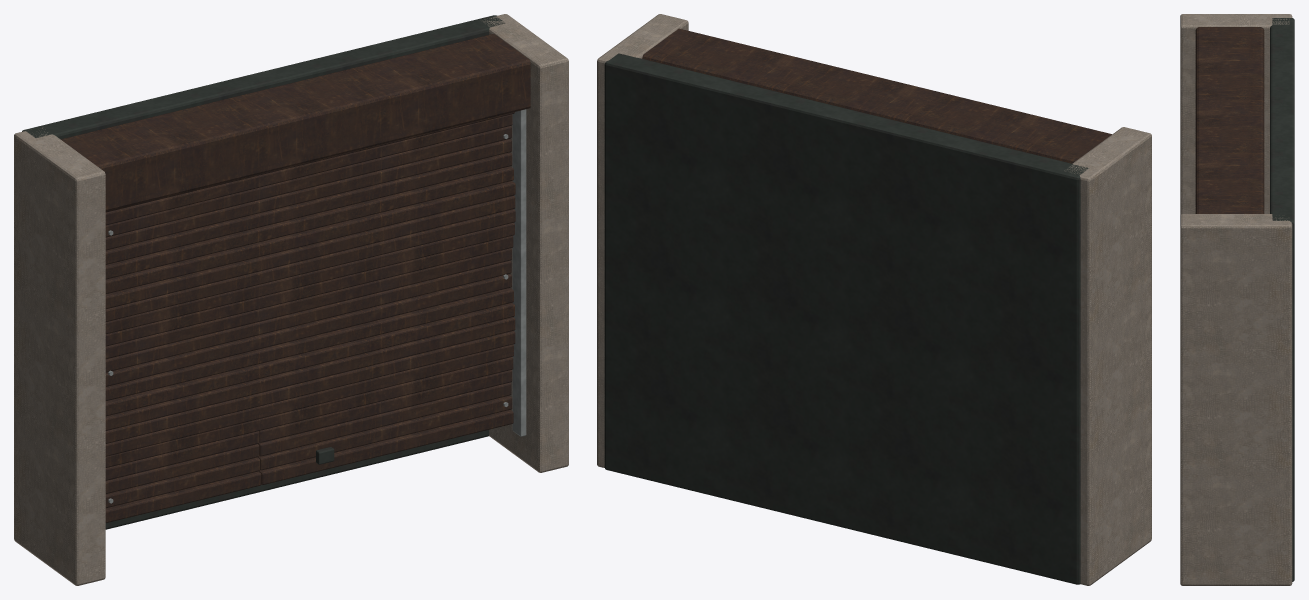
Rendered from f3_v3_shutter_shop.glb.
3 views of the same model, side by side, from view 1: azimuth 30°, elevation 25°; view 2: azimuth 150°, elevation 25°; view 3: azimuth 270°, elevation 25° (orthographic). The views are drawn at different scales.
Visible parts, largest first — view 1: f3_oxidized_iron_surface, f3_weathered_concrete_surface, f3_deep_crack_surface, f3_bare_worn_steel_surface; view 2: f3_deep_crack_surface, f3_weathered_concrete_surface, f3_oxidized_iron_surface; view 3: f3_weathered_concrete_surface, f3_oxidized_iron_surface, f3_deep_crack_surface.
Part boxes in pixels (<box>): f3_oxidized_iron_surface: <box>61,34,530,522</box>; f3_weathered_concrete_surface: <box>14,14,568,585</box>; f3_deep_crack_surface: <box>22,15,505,529</box>; f3_bare_worn_steel_surface: <box>108,109,526,503</box>; f3_deep_crack_surface: <box>604,53,1088,584</box>; f3_weathered_concrete_surface: <box>597,14,1151,585</box>; f3_oxidized_iron_surface: <box>642,28,1111,163</box>; f3_weathered_concrete_surface: <box>1180,14,1292,585</box>; f3_oxidized_iron_surface: <box>1195,27,1264,213</box>; f3_deep_crack_surface: <box>1270,18,1294,581</box>.
Bounding box in the file's own units: 4.05 × 3.2 × 0.92.
Materials: 4 (4 with a texture image).
